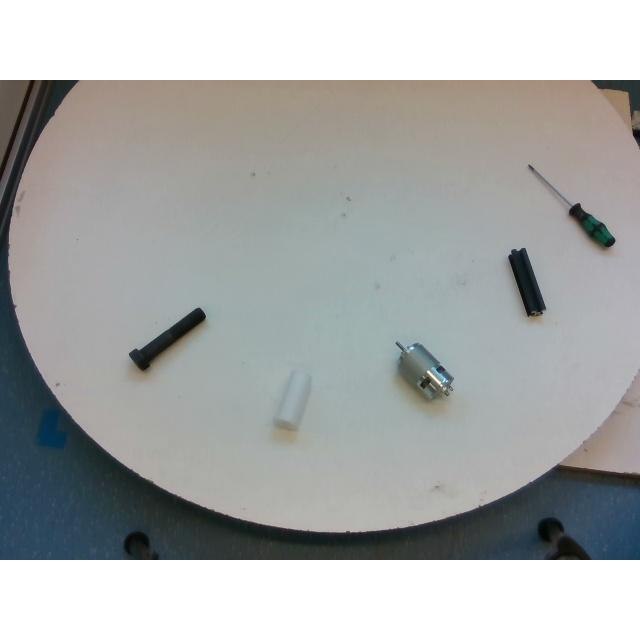F20_20_B: (508, 250, 544, 314)
M20_100: (128, 307, 205, 369)
Motor2: (396, 341, 452, 399)
Screwdriver: (528, 165, 616, 248)
Spacer: (274, 371, 310, 427)
